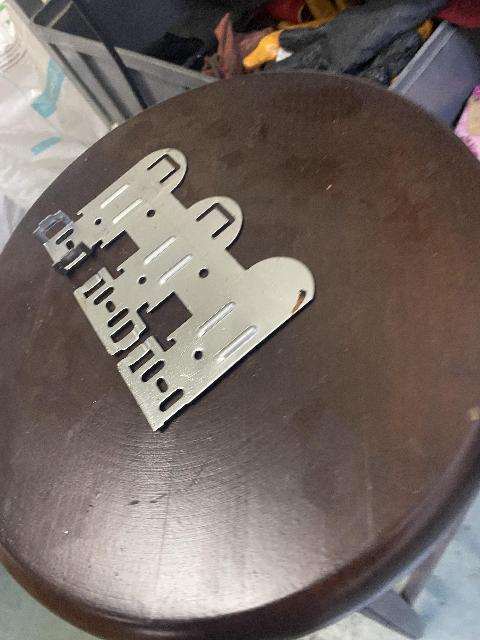Metal: (29, 141, 329, 433)
